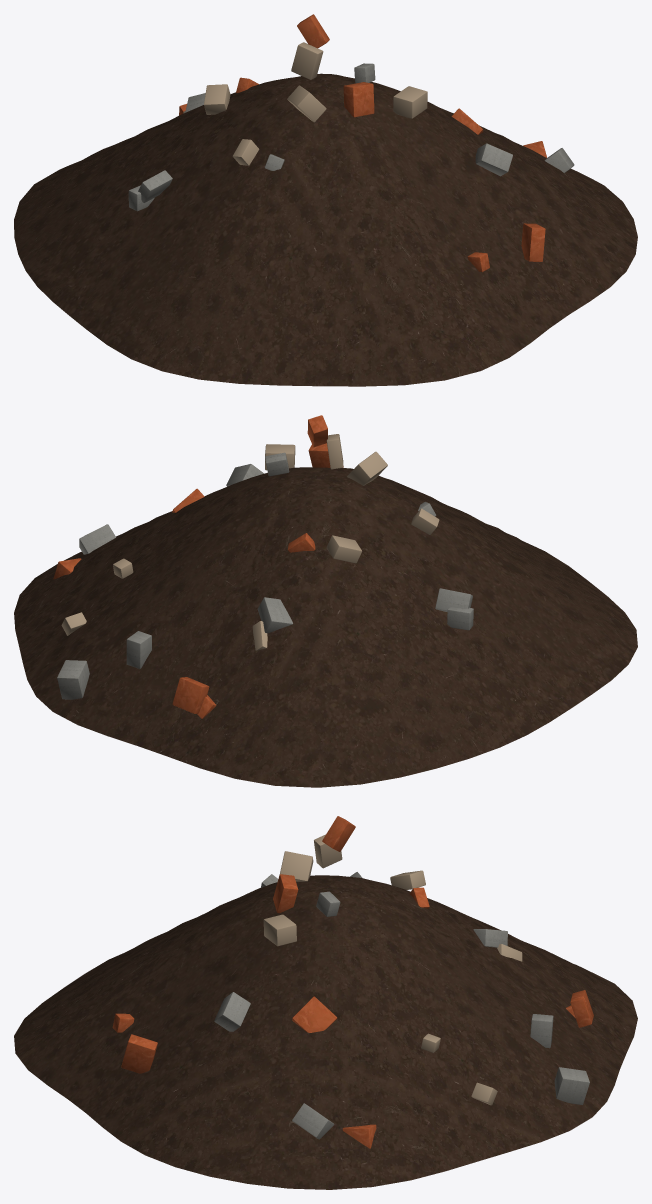
The model's file is TER-SOL-005.glb.
3 renders of one model, top to bottom at view 1: azimuth 30°, elevation 25°; view 2: azimuth 150°, elevation 25°; view 3: azimuth 270°, elevation 25°, orthographic.
Parts seen in each view (by area): view 1: TER-SOL-005_monte, TER-SOL-005_caco1, TER-SOL-005_caco17, TER-SOL-005_caco14, TER-SOL-005_caco18, TER-SOL-005_caco10, TER-SOL-005_caco20, TER-SOL-005_caco11, TER-SOL-005_caco16, TER-SOL-005_caco0; view 2: TER-SOL-005_monte, TER-SOL-005_caco12, TER-SOL-005_caco22, TER-SOL-005_caco6, TER-SOL-005_caco3, TER-SOL-005_caco20, TER-SOL-005_caco11, TER-SOL-005_caco0, TER-SOL-005_caco21, TER-SOL-005_caco9, TER-SOL-005_caco16; view 3: TER-SOL-005_monte, TER-SOL-005_caco12, TER-SOL-005_caco10, TER-SOL-005_caco25, TER-SOL-005_caco18, TER-SOL-005_caco17, TER-SOL-005_caco21, TER-SOL-005_caco20, TER-SOL-005_caco1, TER-SOL-005_caco16, TER-SOL-005_caco3, TER-SOL-005_caco22 (+2 smaller).
Part boxes in pixels (x1,y1,x2,y2): TER-SOL-005_monte: [14, 73, 637, 386]; TER-SOL-005_caco1: [343, 82, 374, 117]; TER-SOL-005_caco17: [393, 86, 427, 118]; TER-SOL-005_caco14: [291, 42, 323, 79]; TER-SOL-005_caco18: [475, 143, 512, 176]; TER-SOL-005_caco10: [521, 223, 545, 261]; TER-SOL-005_caco20: [287, 85, 326, 122]; TER-SOL-005_caco11: [204, 84, 230, 114]; TER-SOL-005_caco16: [297, 14, 329, 48]; TER-SOL-005_caco0: [138, 170, 172, 202]; TER-SOL-005_monte: [14, 467, 637, 787]; TER-SOL-005_caco12: [57, 660, 89, 699]; TER-SOL-005_caco22: [172, 677, 209, 713]; TER-SOL-005_caco6: [257, 597, 292, 633]; TER-SOL-005_caco3: [126, 631, 151, 668]; TER-SOL-005_caco20: [347, 451, 387, 485]; TER-SOL-005_caco11: [326, 535, 361, 563]; TER-SOL-005_caco0: [435, 588, 472, 611]; TER-SOL-005_caco21: [79, 524, 115, 554]; TER-SOL-005_caco9: [447, 607, 473, 630]; TER-SOL-005_caco16: [307, 415, 327, 447]; TER-SOL-005_monte: [14, 875, 637, 1189]; TER-SOL-005_caco12: [554, 1067, 589, 1104]; TER-SOL-005_caco10: [121, 1034, 157, 1073]; TER-SOL-005_caco25: [292, 996, 337, 1032]; TER-SOL-005_caco18: [214, 992, 250, 1031]; TER-SOL-005_caco17: [263, 914, 296, 946]; TER-SOL-005_caco21: [292, 1103, 334, 1139]; TER-SOL-005_caco20: [279, 851, 313, 881]; TER-SOL-005_caco1: [273, 874, 298, 913]; TER-SOL-005_caco16: [322, 816, 355, 851]; TER-SOL-005_caco3: [530, 1014, 553, 1048]; TER-SOL-005_caco22: [570, 990, 593, 1027].
Bounding box in the file's own units: 1.74 × 0.7336 × 1.78.
4 materials, 3 textured.
